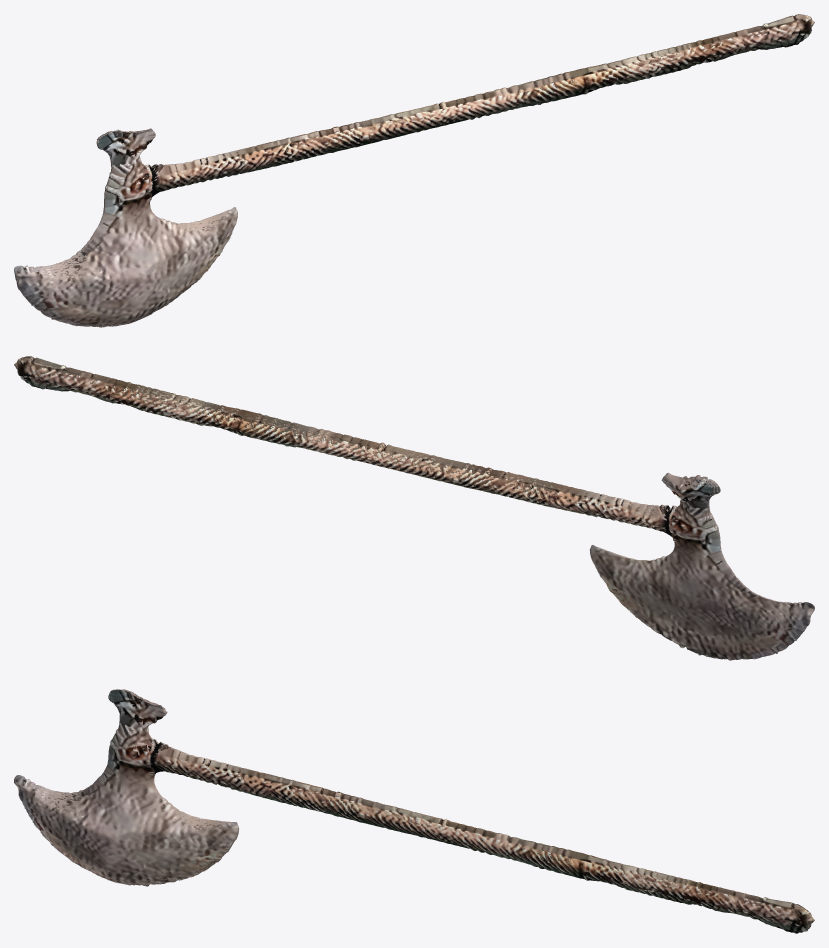
The model's file is kfl-2184.glb.
3 views of the same model, one above another, from view 1: azimuth 30°, elevation 25°; view 2: azimuth 150°, elevation 25°; view 3: azimuth 330°, elevation 25° (orthographic).
Visible parts, largest first — view 1: kfl-2184; view 2: kfl-2184; view 3: kfl-2184.
Boxes of the visible parts, bbox=[...] form: kfl-2184: bbox=[14, 14, 814, 327]; kfl-2184: bbox=[14, 356, 814, 660]; kfl-2184: bbox=[14, 689, 814, 933].
Bounding box in the file's own units: 0.9884 × 0.222 × 0.063.
4 materials, 4 textured.
